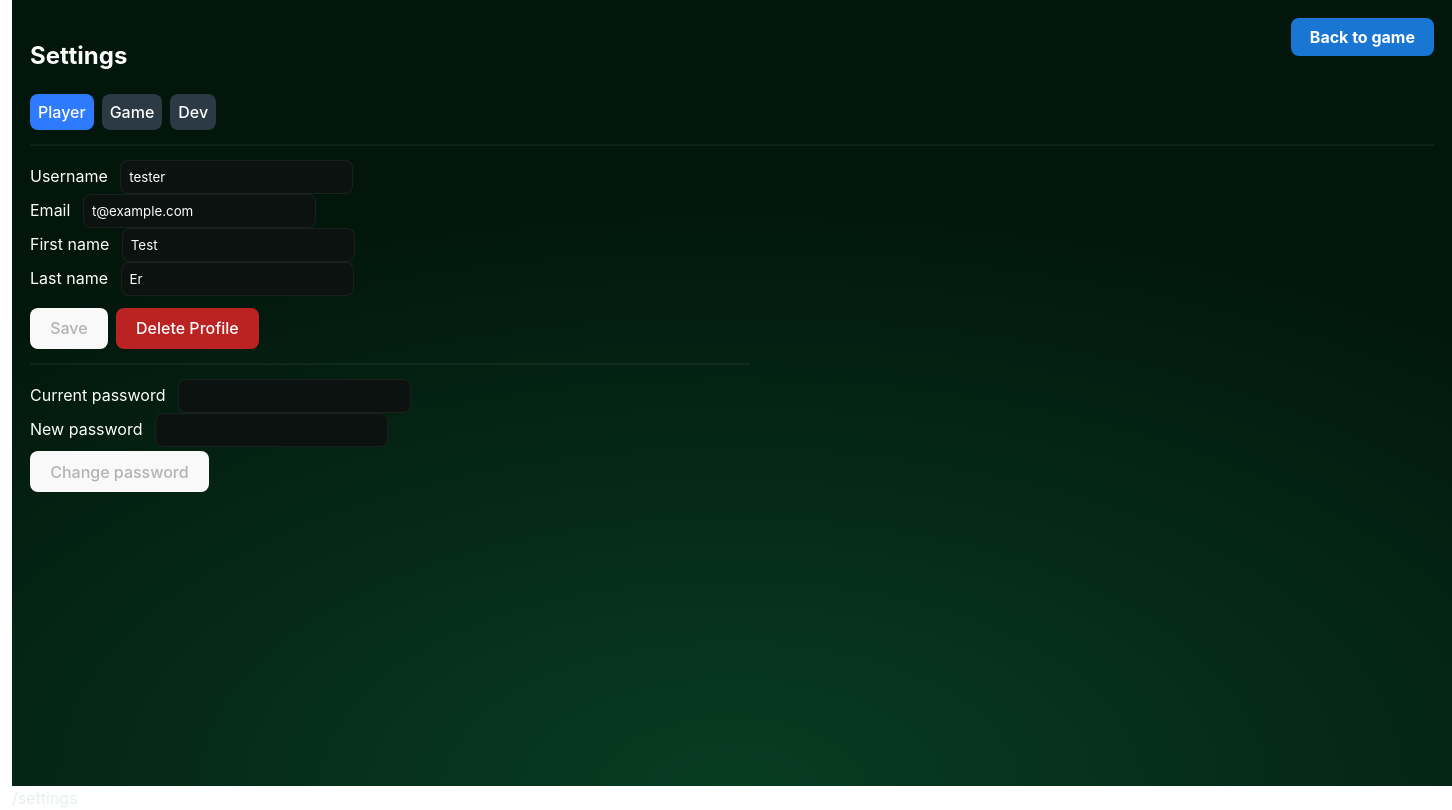
Test: Settings › shows one tab at a time, as buttons, and keeps the open tab in the URL
This screenshot has width=1452, height=810.
Expected: the button "Delete Profile" is shown, [116,308,259,349]
Expected: the element "Table rules" is not shown
Click the tab "Game".
click(132, 112)  # box [102,94,162,130]
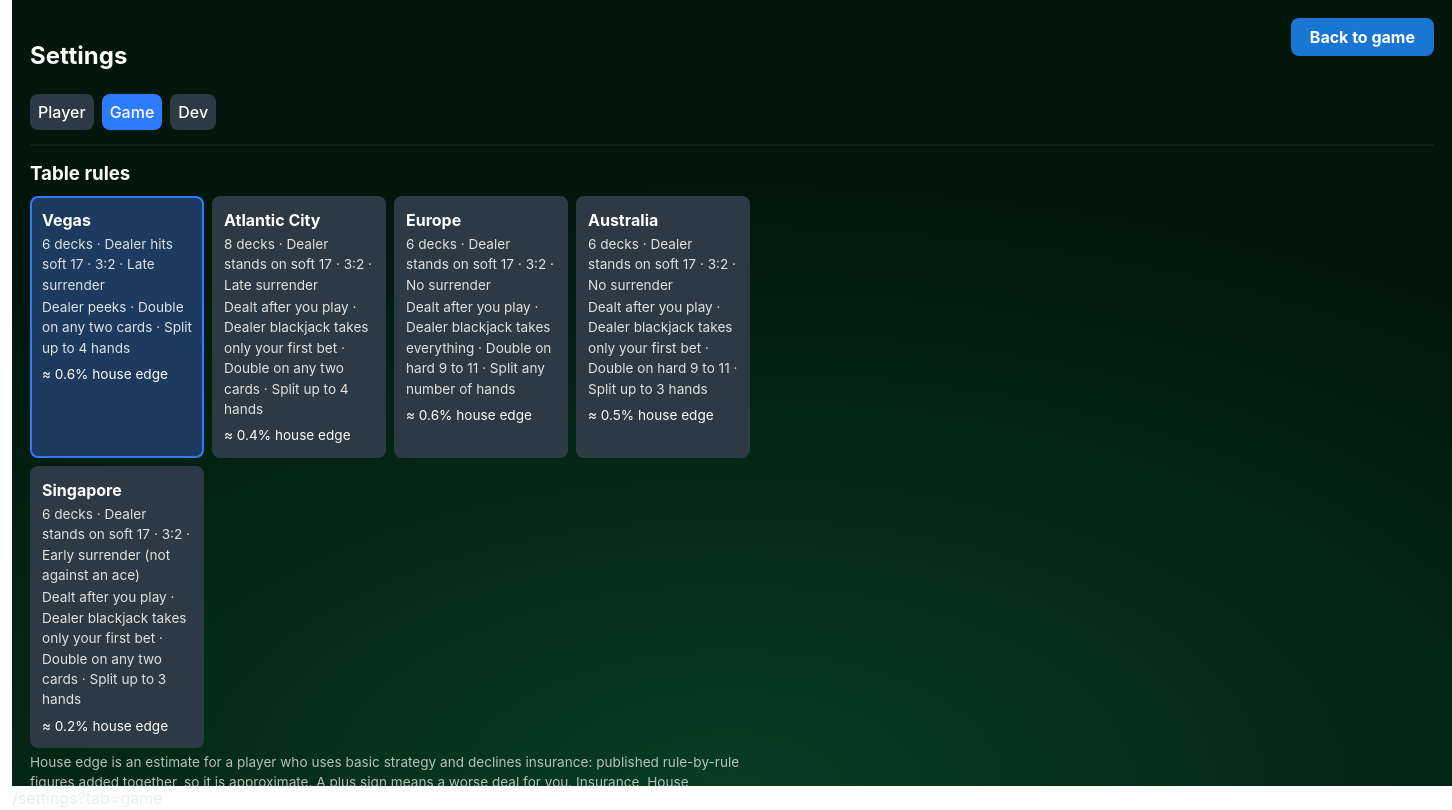
Expected: the text with test id "location" reads "/settings?tab=game", [12,788,163,808]
Expected: the element named "Table rules" is shown, [30,196,750,748]
Expected: the button "Delete Profile" is gone
Click the tab "Dev".
click(193, 112)  # box [170,94,216,130]
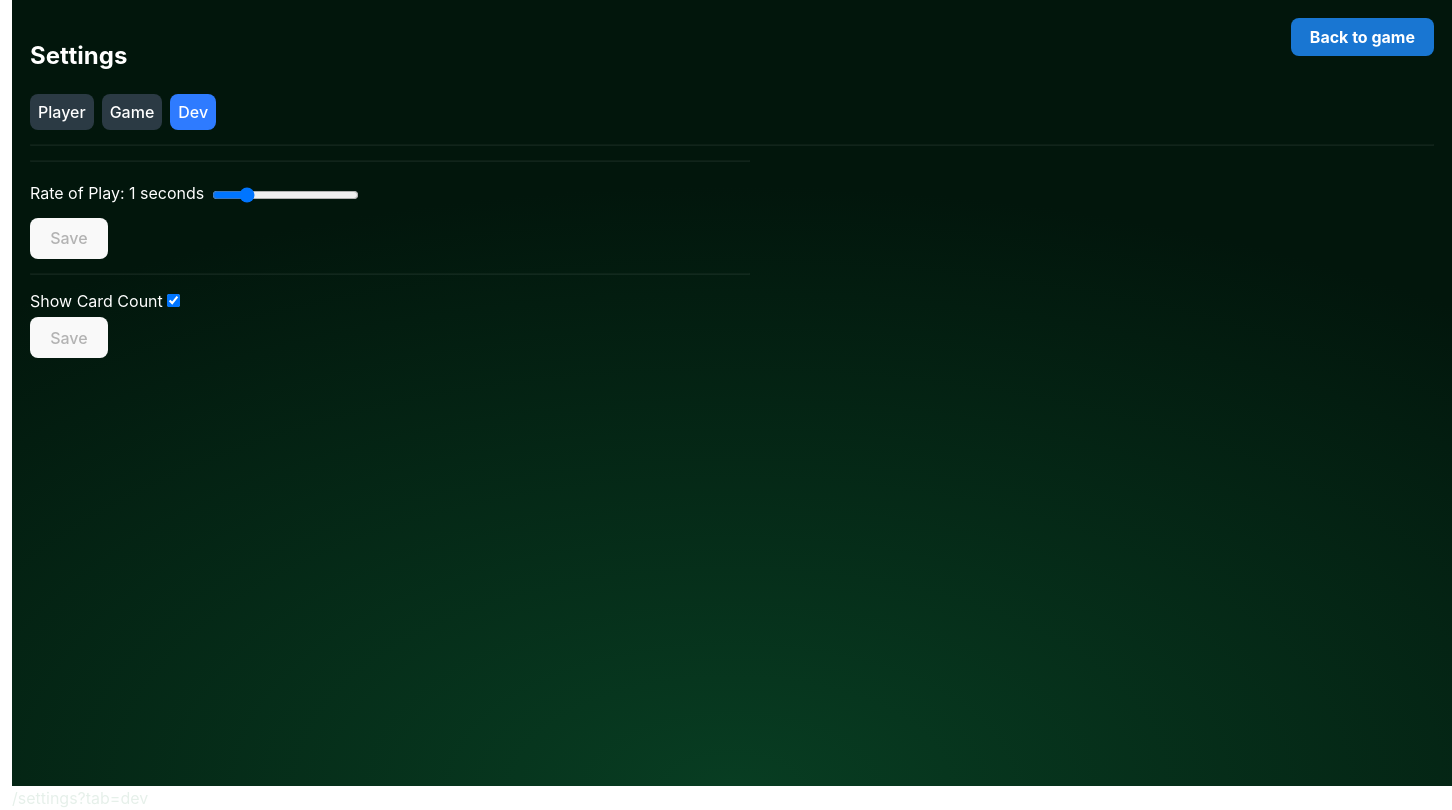
Expected: the slider named "playTimeout" is shown, [212,178,359,212]
Expected: the checkbox named "showCardCount" is shown, [167,294,180,307]
Expected: the heading "Table rules" is gone
